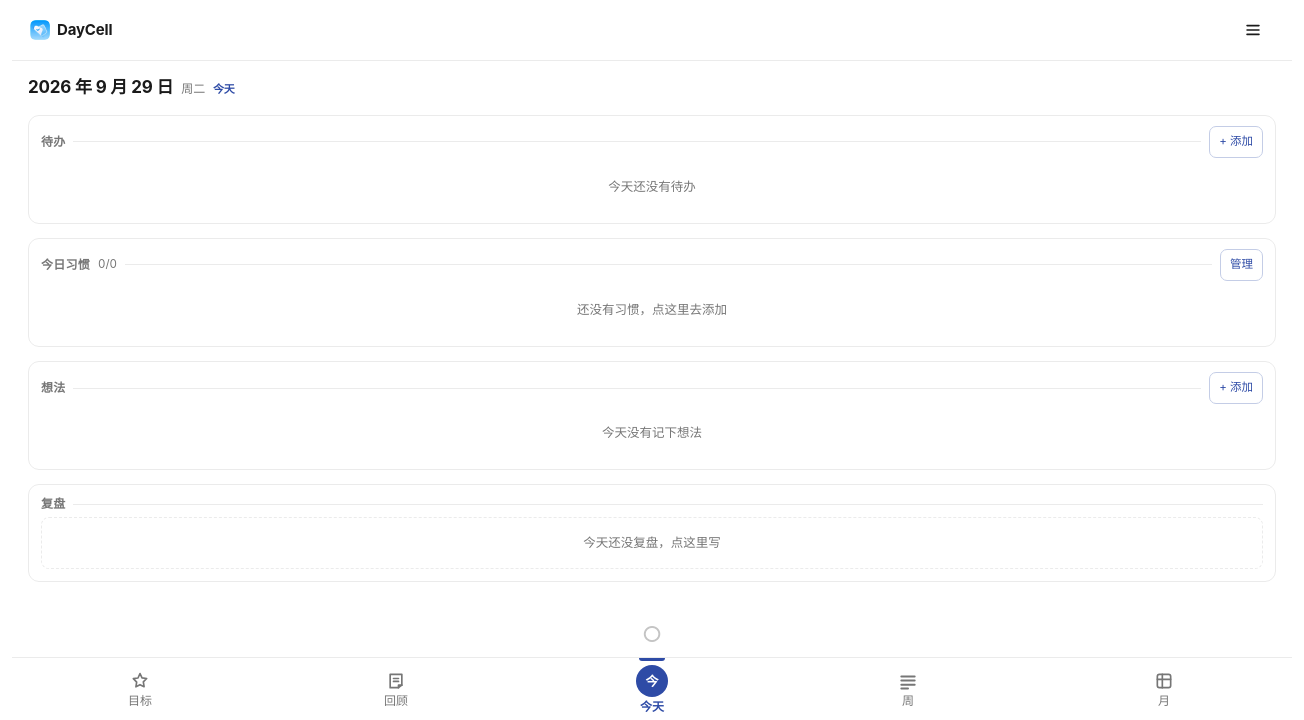
Test: App 冒烟 › 点「添加待办」→ 敲字回车 → 待办出现在列表（单一录入入口全链路）
Click the button with aria-label "添加待办" at (1236, 142), box [1209,126,1263,158]
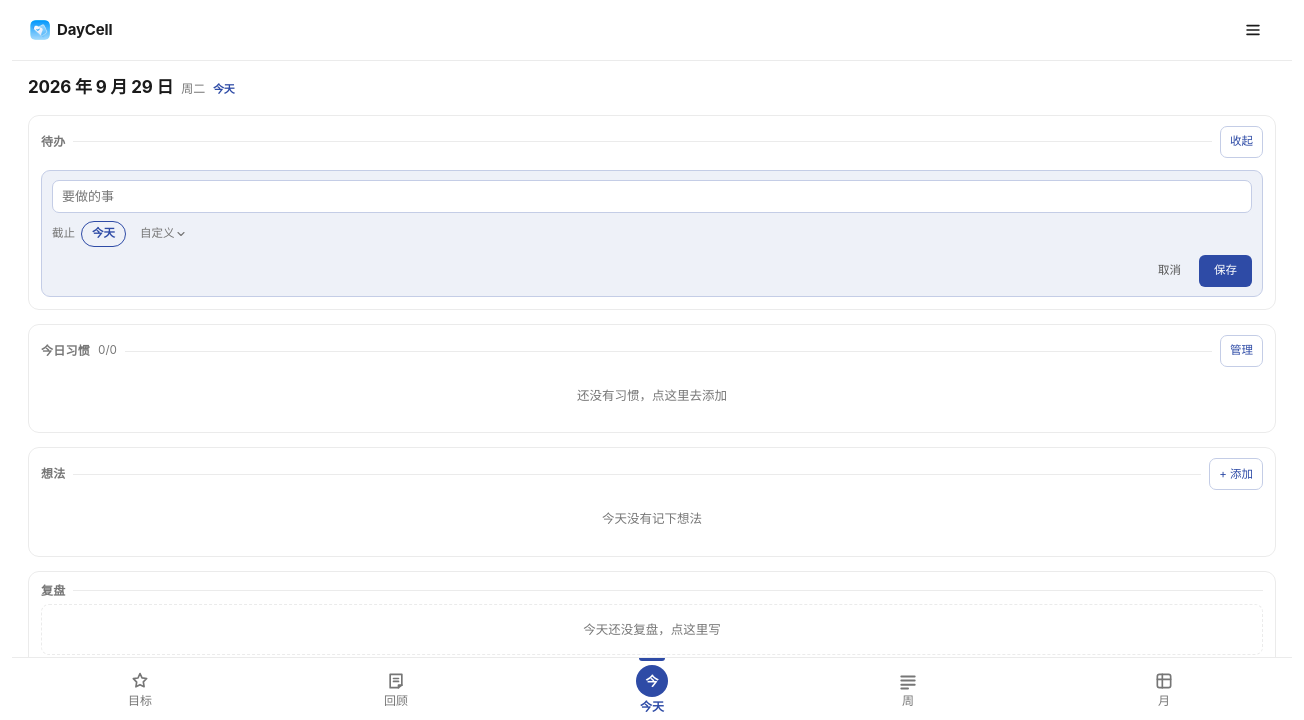
Type "买牛奶" into the field named "新待办" at (652, 196), box [52,180,1252,213]
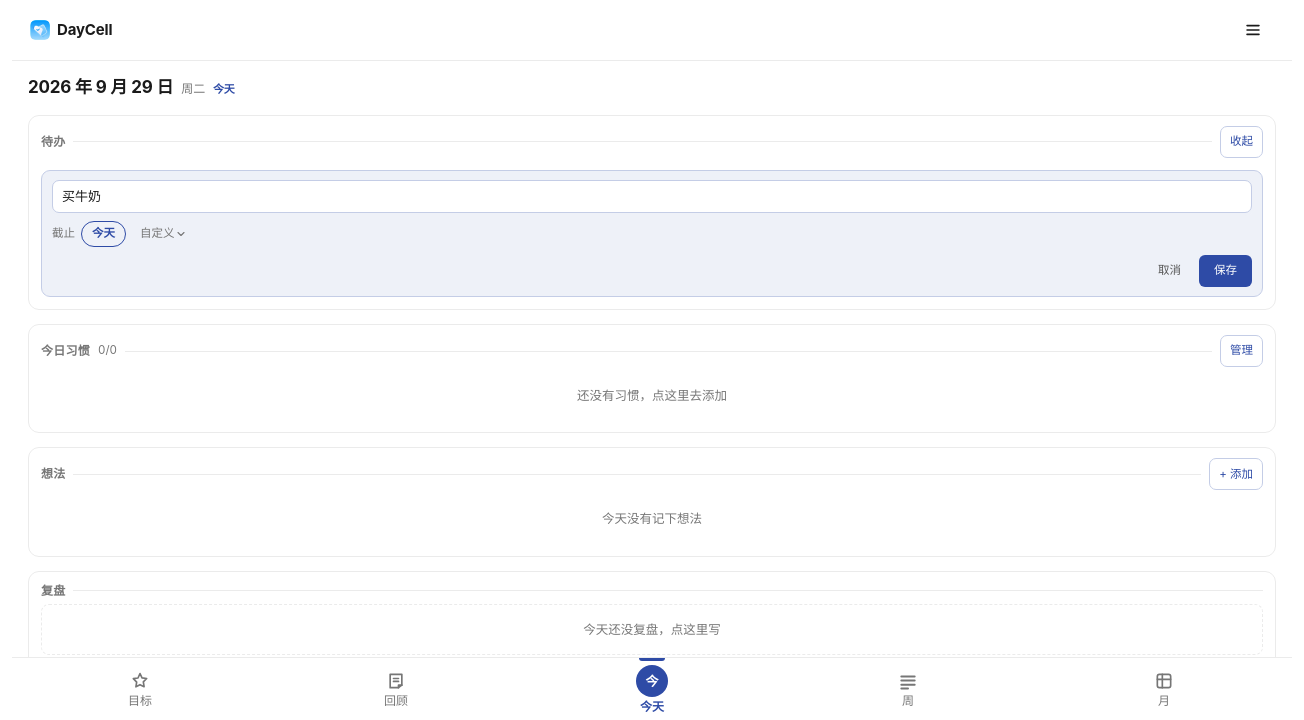
Press Enter in the field named "新待办", box [52,180,1252,213]
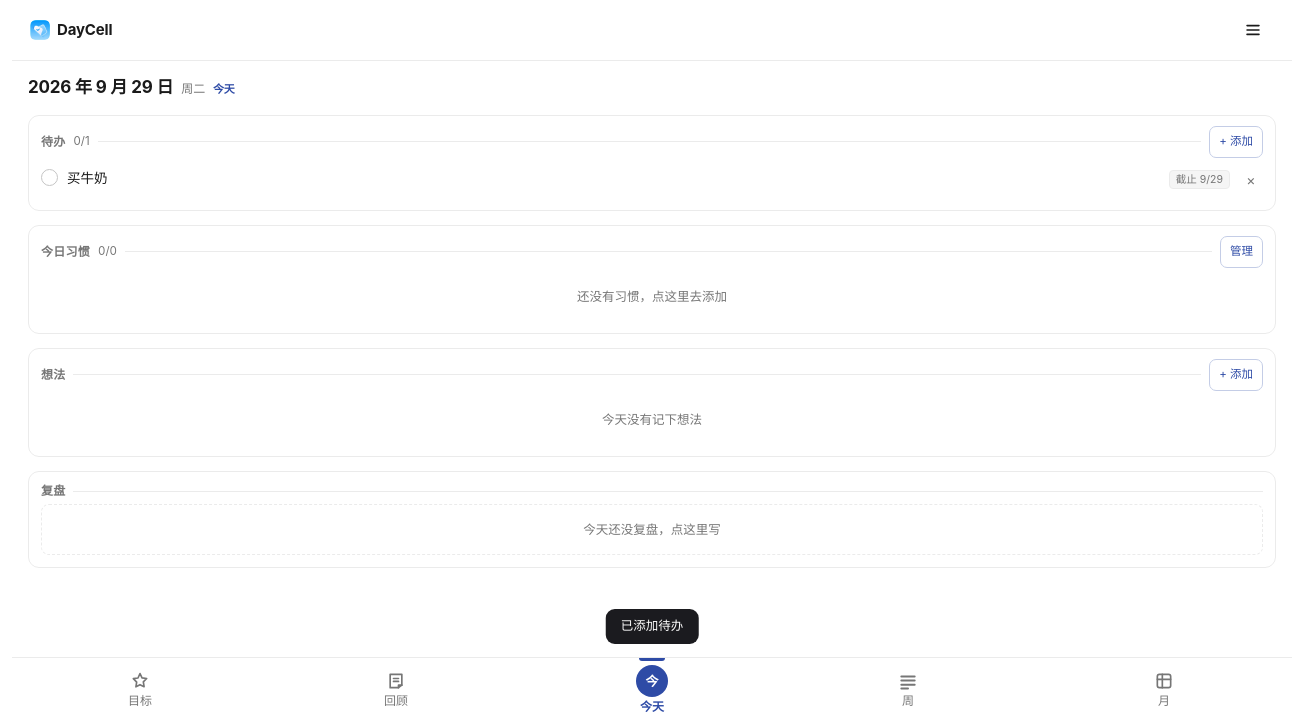
Result: the text "买牛奶" is shown at [67,170,108,186]
Result: the field labelled "新待办" is gone
